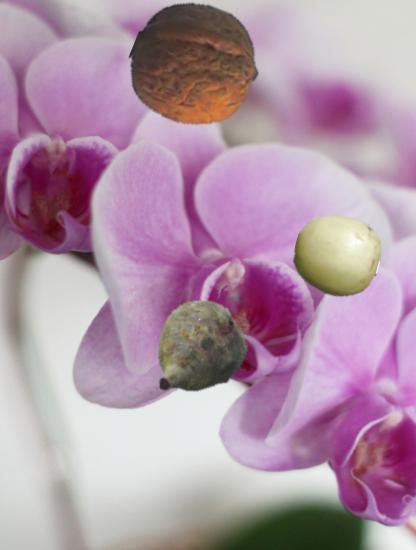Apple: (294, 212, 381, 299)
Beetroot: (129, 294, 253, 418)
Walnut: (131, 1, 258, 128)
